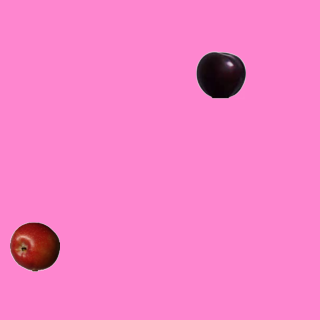Apple Braeburn: (9, 221, 59, 271)
Cherry Wax Black: (195, 49, 245, 99)
